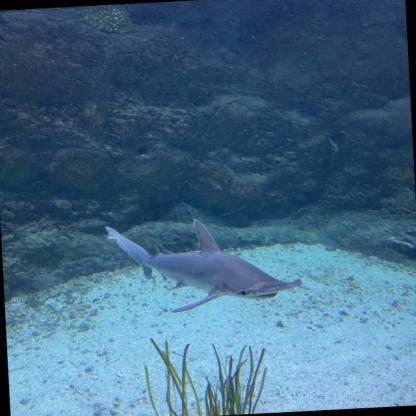shark: (106, 214, 304, 316)
